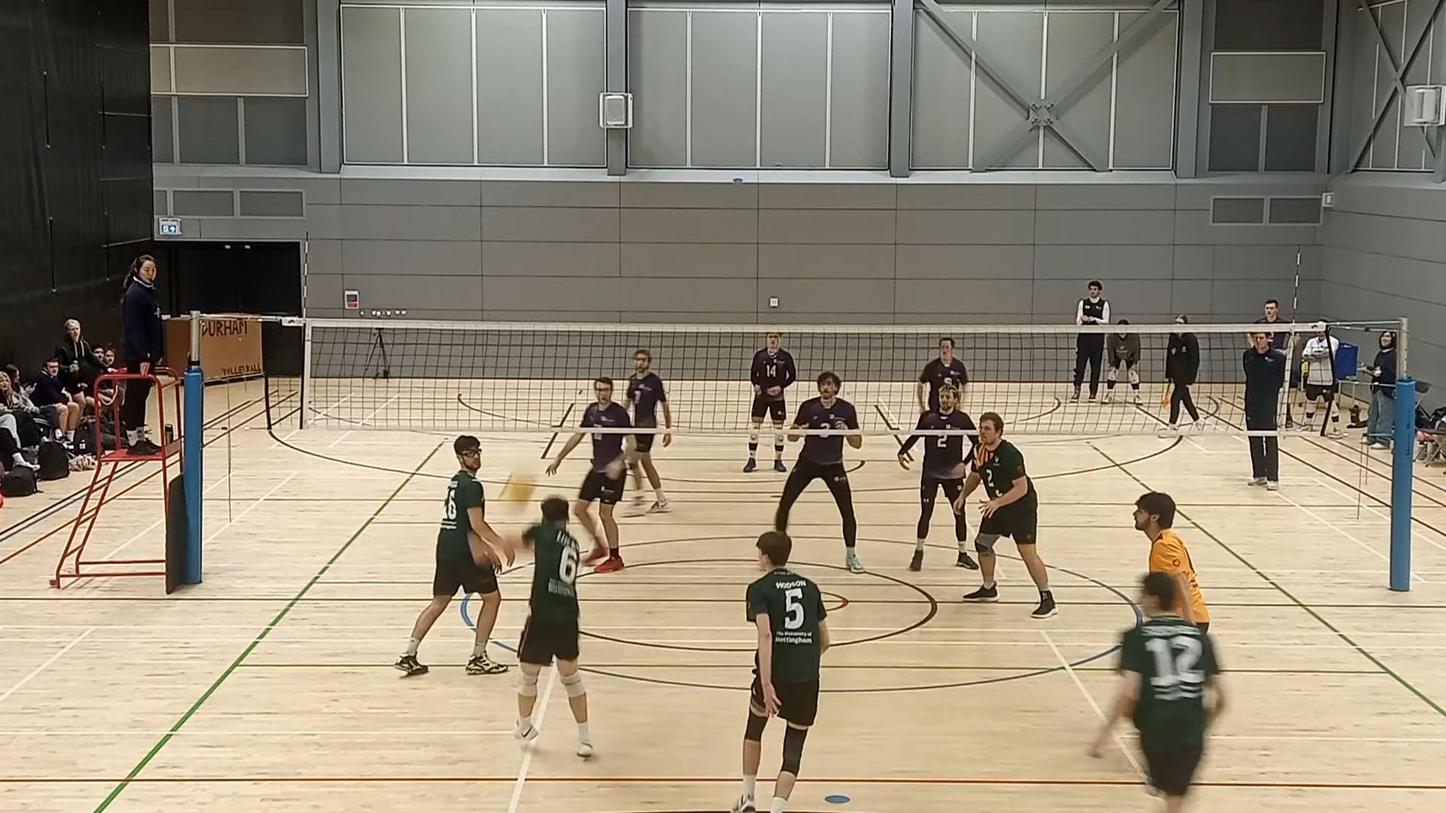Player: (1090, 572, 1225, 812), (395, 436, 511, 675), (732, 531, 828, 812), (954, 413, 1057, 619), (775, 372, 863, 572), (898, 434, 978, 571), (1133, 492, 1209, 631), (573, 433, 633, 572), (743, 331, 797, 471), (915, 336, 968, 413), (630, 432, 669, 512)
Receive: (496, 495, 600, 760)
